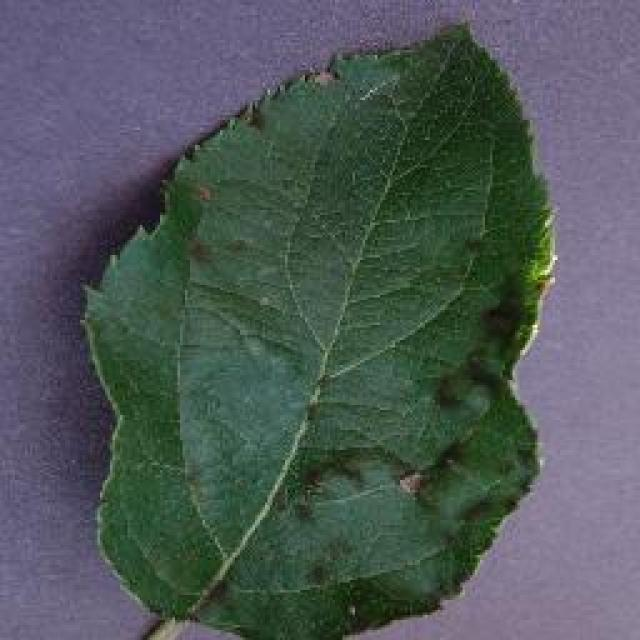apple scab disease: (78, 18, 560, 638)
